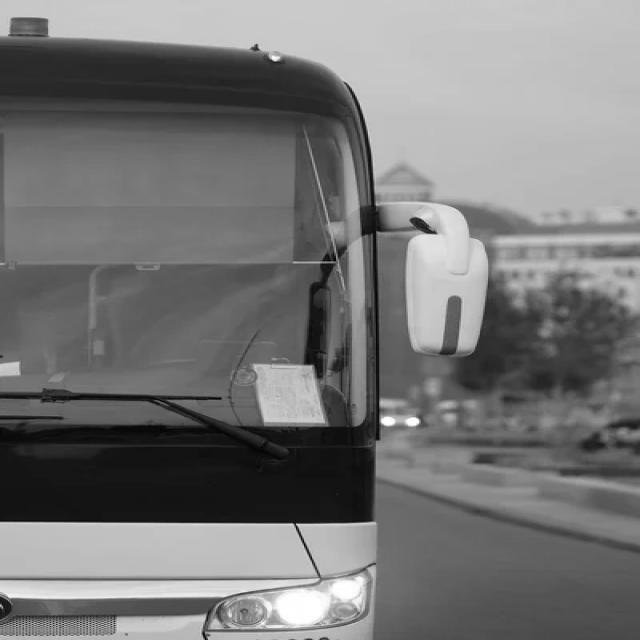Bus: (0, 19, 486, 639)
